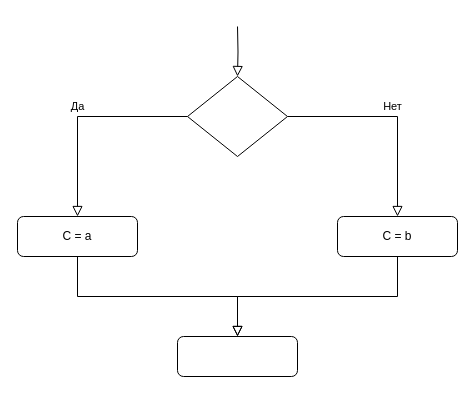
Image size: 475x394. Some labels were removed from this diagram. Here are the shapes that lost their labels. From the top down, the centre of each, then its label:
the point at 237,116: a > b
the point at 237,356: Вывод M
